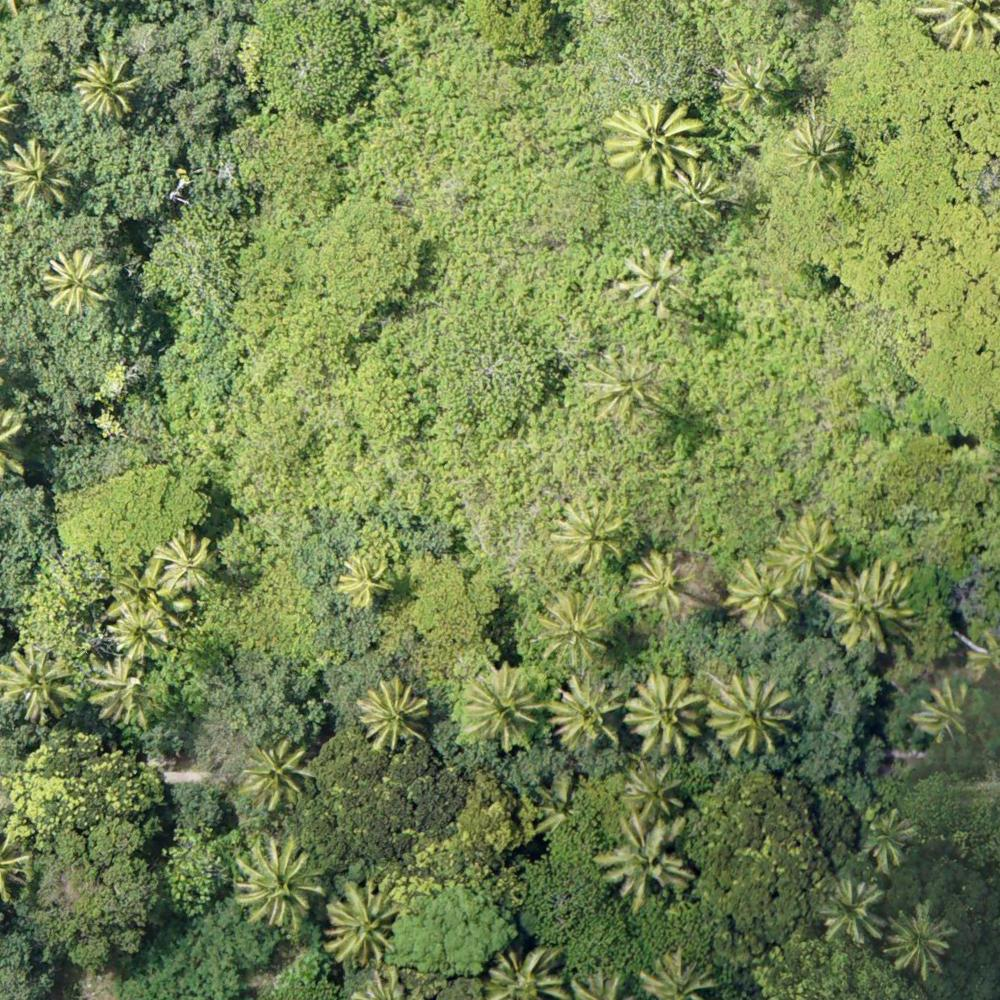Palm: (597, 814, 696, 908), (605, 97, 695, 190), (237, 838, 326, 923), (319, 877, 405, 961), (461, 665, 542, 747), (829, 565, 908, 646), (713, 676, 790, 758), (625, 672, 703, 752), (2, 648, 75, 731), (584, 351, 663, 427), (553, 673, 631, 747), (719, 557, 799, 629), (350, 678, 430, 749), (552, 498, 625, 572), (770, 513, 840, 589), (6, 138, 75, 211), (85, 658, 155, 729), (625, 548, 690, 623), (483, 943, 567, 1000), (241, 736, 305, 809), (638, 943, 721, 999), (891, 900, 952, 976), (540, 595, 608, 663), (822, 873, 886, 945), (73, 49, 142, 115), (781, 116, 851, 181), (46, 249, 112, 317), (619, 760, 686, 826), (908, 678, 974, 745), (620, 250, 691, 312), (153, 531, 216, 596), (106, 599, 171, 661), (664, 158, 725, 222), (863, 804, 920, 868), (337, 551, 396, 605), (721, 63, 780, 112)
